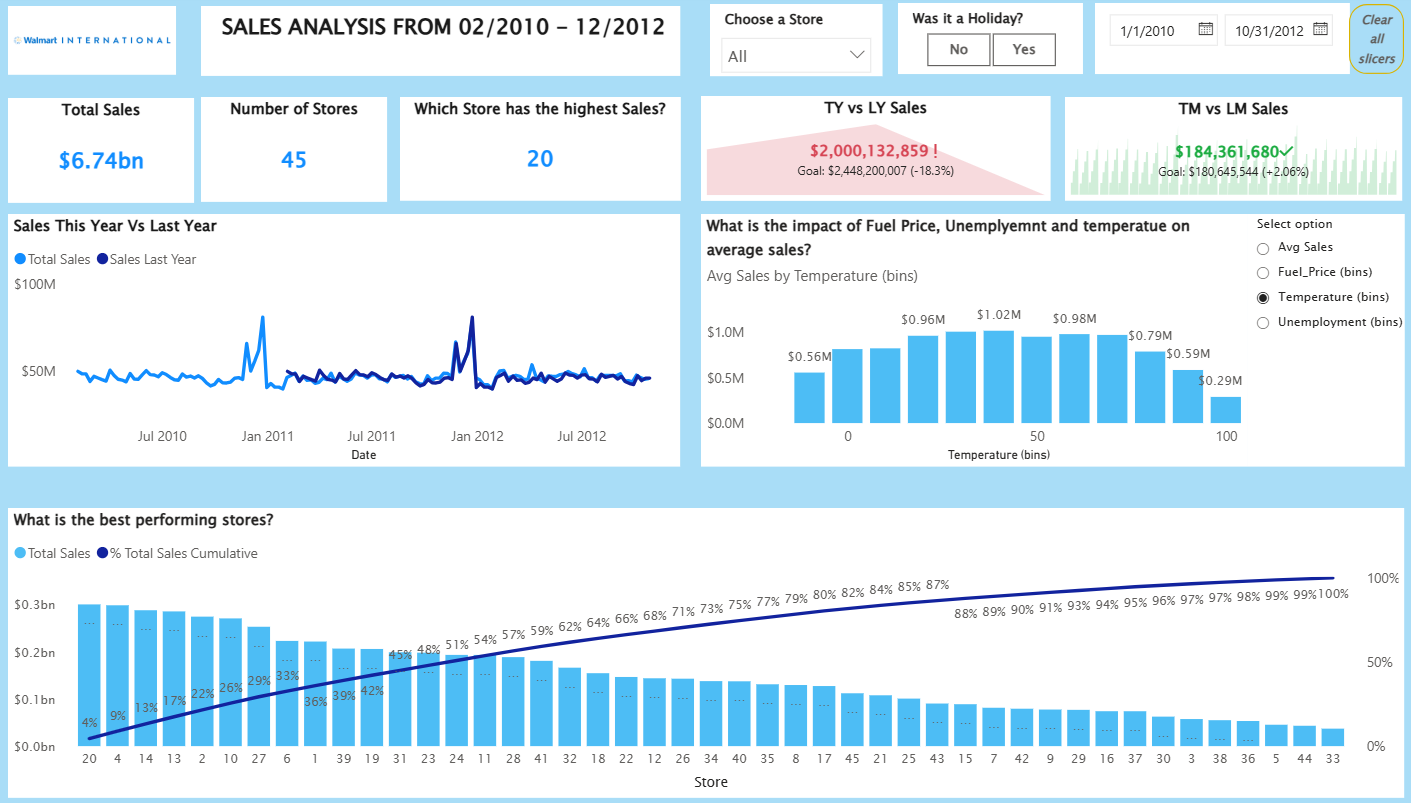

This screenshot's page, from the dashboard's own definition file:
{"tool":"powerbi","page":{"name":"Walmart Sales Analysis Dashboard","canvas":[1280,720],"ordinal":0},"visuals":[{"type":"card","title":"Number of Stores","fields":{"Values":["Walmart_Sales.Number of Stores"]},"box":[195.4,90.5,165.3,92.9],"z":0},{"type":"card","title":"Total Sales","fields":{"Values":["Walmart_Sales.Total Weekly Sales"]},"box":[24.1,91,165,92.9],"z":1000},{"type":"kpi","title":"TY vs LY Sales","fields":{"Indicator":["My Measures.Total Sales"],"Goal":["My Measures.Previous Year Sales"],"TrendLine":["DateTable.Year"]},"box":[638.2,89.3,310.1,92.9],"z":2000},{"type":"card","title":"Which Store has the highest Sales?","fields":{"Values":["Min(Walmart_Sales.Store)"]},"box":[371.6,90.5,248.5,91.7],"z":3000},{"type":"image","box":[24,10,149,61],"z":4000},{"type":"lineChart","title":"Sales This Year Vs Last Year","fields":{"Y":["My Measures.Total Sales","My Measures.Sales Last Year"],"Category":["DateTable.Date"]},"box":[24.1,194.2,596,224.4],"z":5000},{"type":"slicer","fields":{"Values":["Walmart_Sales.Store - Number"]},"box":[646.7,7.8,153.3,64.4],"z":6000},{"type":"slicer","fields":{"Values":["Walmart_Sales.Holiday_Program_Custom"]},"box":[813.1,7.2,164.1,62.7],"z":7000},{"type":"textbox","box":[195.4,9.7,424.7,61.5],"z":8000},{"type":"slicer","fields":{"Values":["DateTable.Date"]},"box":[988.1,7.2,225.6,62.7],"z":9000},{"type":"actionButton","box":[1213,8,48.8,62.1],"z":10000},{"type":"lineClusteredColumnComboChart","title":"What is the best performing stores?","fields":{"Category":["Walmart_Sales.Store"],"Y":["My Measures.Total Sales"],"Y2":["My Measures.% Total Sales Cumulative"]},"box":[23.9,454.9,1237.8,257.1],"z":11000},{"type":"clusteredColumnChart","title":"What is the impact of Fuel Price, Unemplyemnt and temperatue on average sales?","fields":{"Category":["Walmart_Sales.Temperature (bins)"],"Y":["My Measures.Avg Sales"]},"box":[638.2,194.2,485,224.4],"z":12000},{"type":"slicer","fields":{"Values":["Bins.Bins"]},"box":[1123.2,194.2,138.7,224.4],"z":13000},{"type":"kpi","title":"TM vs LM Sales","fields":{"Indicator":["My Measures.Sales MTD"],"Goal":["My Measures.Sales Previous Month"],"TrendLine":["DateTable.Date"]},"box":[961.5,90.5,299.2,91.7],"z":14000}]}

Visuals, with their boxes in screenshot pixels (x1, y1, x2, y2), scaled from the page's 1280x720 canvas onto the 1411x803 screenshot:
"Number of Stores" card: pyautogui.locateOnScreen(215, 101, 398, 205)
"Total Sales" card: pyautogui.locateOnScreen(27, 101, 208, 205)
"TY vs LY Sales" kpi: pyautogui.locateOnScreen(704, 100, 1045, 203)
"Which Store has the highest Sales?" card: pyautogui.locateOnScreen(410, 101, 684, 203)
image: pyautogui.locateOnScreen(26, 11, 191, 79)
"Sales This Year Vs Last Year" lineChart: pyautogui.locateOnScreen(27, 217, 684, 467)
slicer - Walmart_Sales.Store - Number: pyautogui.locateOnScreen(713, 9, 882, 81)
slicer - Walmart_Sales.Holiday_Program_Custom: pyautogui.locateOnScreen(896, 8, 1077, 78)
textbox: pyautogui.locateOnScreen(215, 11, 684, 79)
slicer - DateTable.Date: pyautogui.locateOnScreen(1089, 8, 1338, 78)
actionButton: pyautogui.locateOnScreen(1337, 9, 1391, 78)
"What is the best performing stores?" lineClusteredColumnComboChart: pyautogui.locateOnScreen(26, 507, 1391, 794)
"What is the impact of Fuel Price, Unemplyemnt and temperatue on average sales?" clusteredColumnChart: pyautogui.locateOnScreen(704, 217, 1238, 467)
slicer - Bins.Bins: pyautogui.locateOnScreen(1238, 217, 1391, 467)
"TM vs LM Sales" kpi: pyautogui.locateOnScreen(1060, 101, 1390, 203)
